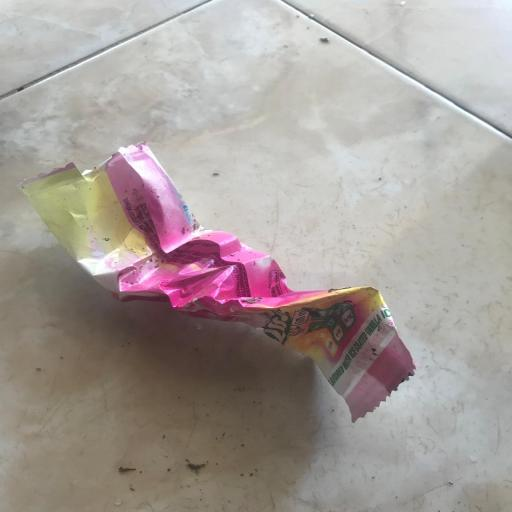waste: (12, 133, 421, 428)
